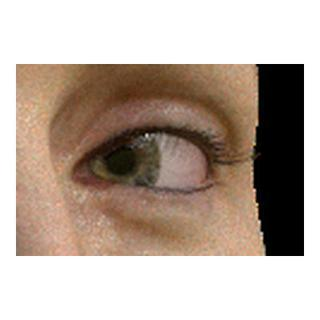pupil: (105, 145, 133, 173)
